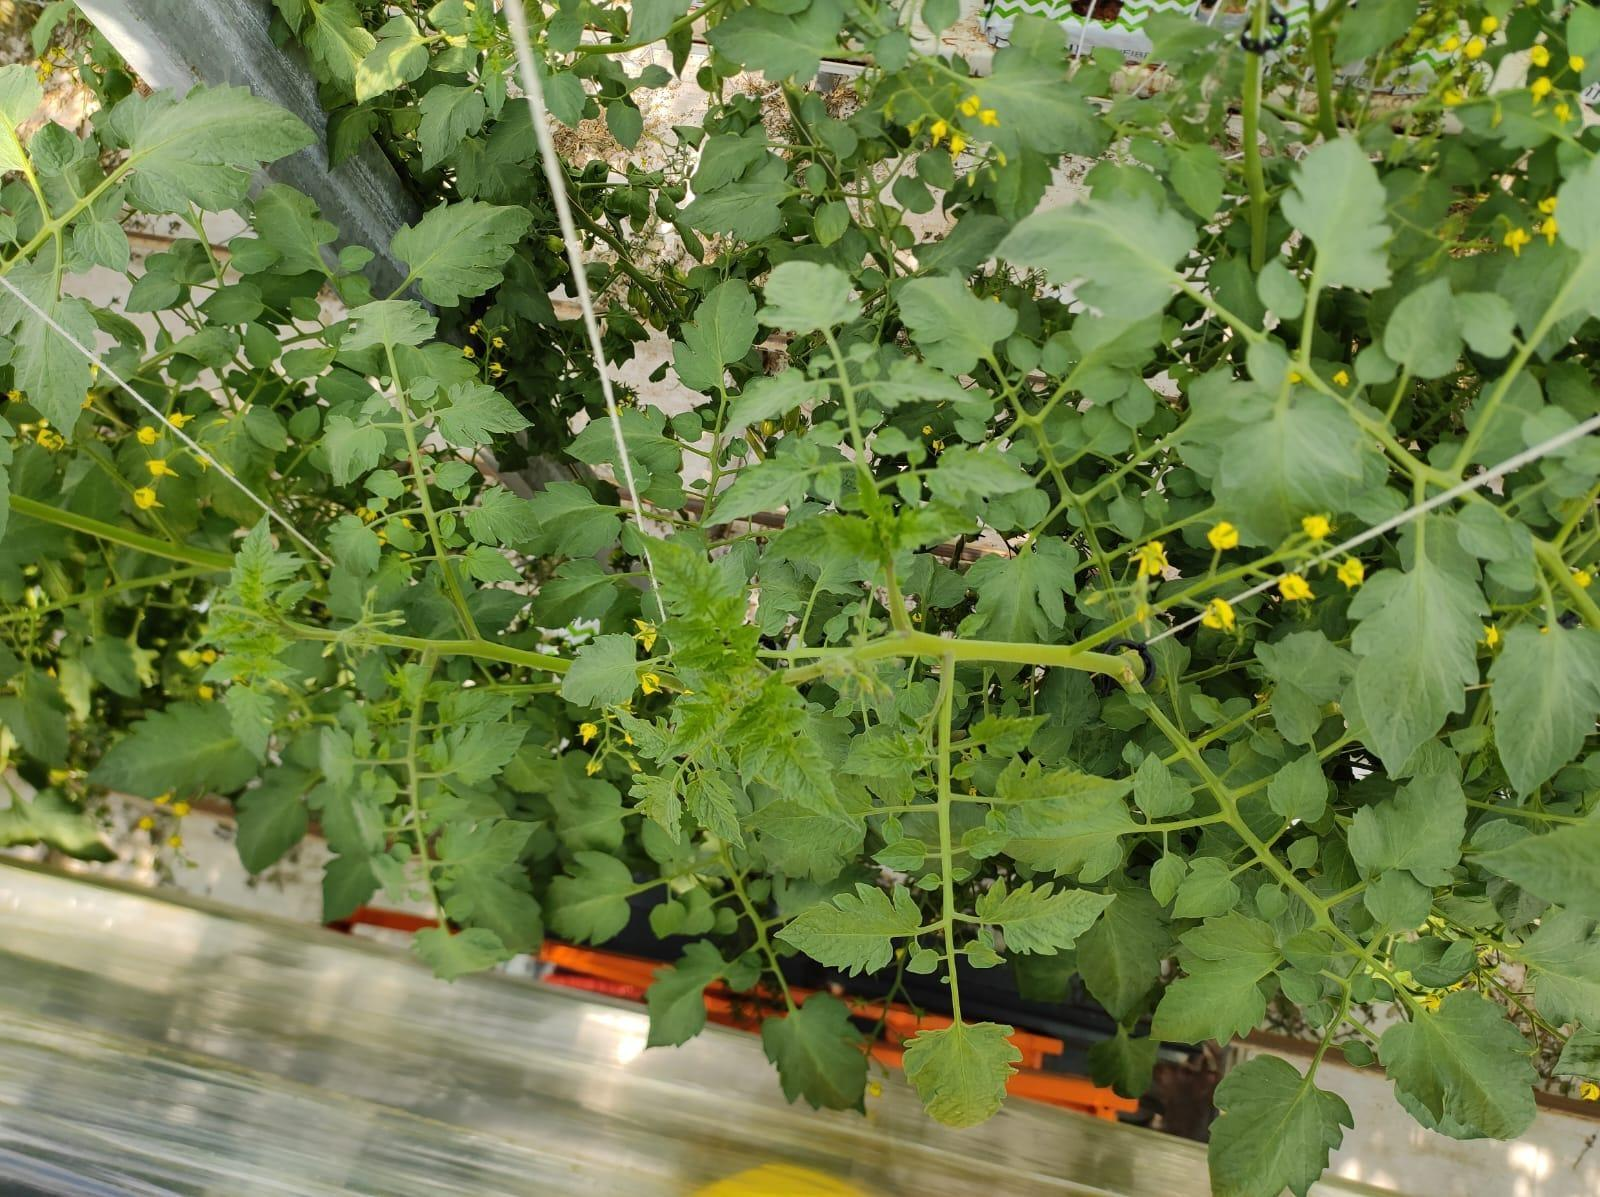Hoja: (1352, 560, 1481, 773), (109, 84, 313, 212), (395, 197, 527, 301), (901, 1021, 1024, 1130), (778, 884, 921, 974), (975, 876, 1116, 956), (763, 738, 861, 831), (249, 184, 326, 269), (124, 245, 216, 308), (685, 772, 744, 849)
